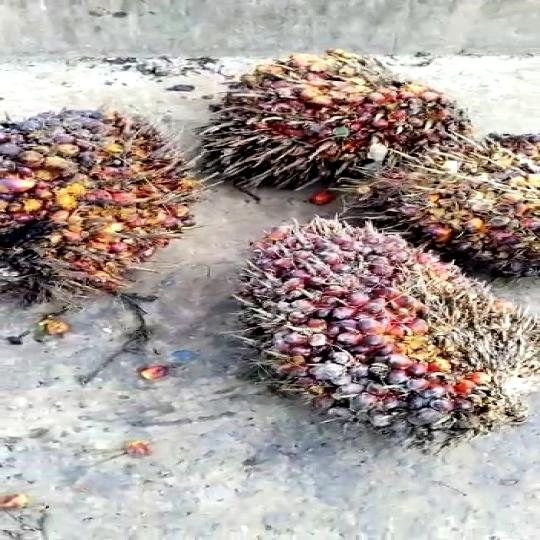masak: (210, 206, 510, 463), (0, 93, 188, 326), (210, 59, 507, 174)
